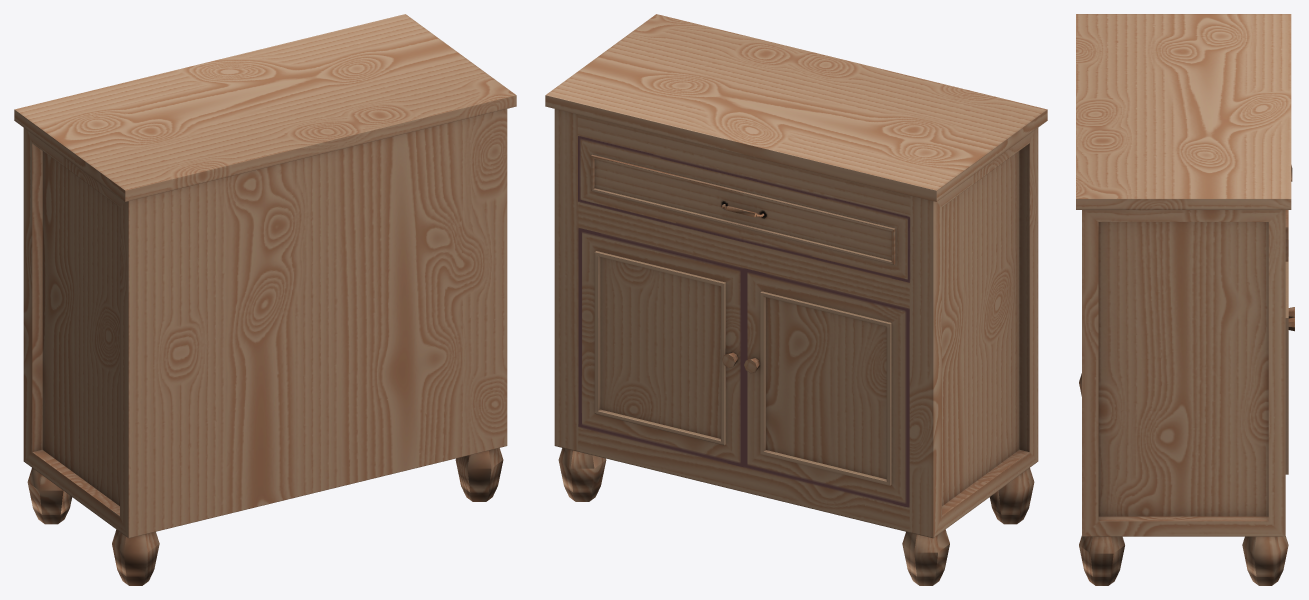
Rendered from FUR0210040.fbx.
The picture shows the model from 3 angles, left to right: view 1: azimuth 30°, elevation 25°; view 2: azimuth 150°, elevation 25°; view 3: azimuth 270°, elevation 25°; orthographic projection. The views are drawn at different scales.
Visible parts, largest first — view 1: smFUR0210040; view 2: smFUR0210040; view 3: smFUR0210040.
Part boxes in pixels (x1,y1,x2,y2): smFUR0210040: (14, 14, 516, 585); smFUR0210040: (545, 14, 1047, 585); smFUR0210040: (1076, 14, 1294, 585).
Bounding box in the file's own units: 99.83 × 99 × 49.87.
Materials: 1 (1 with a texture image).
